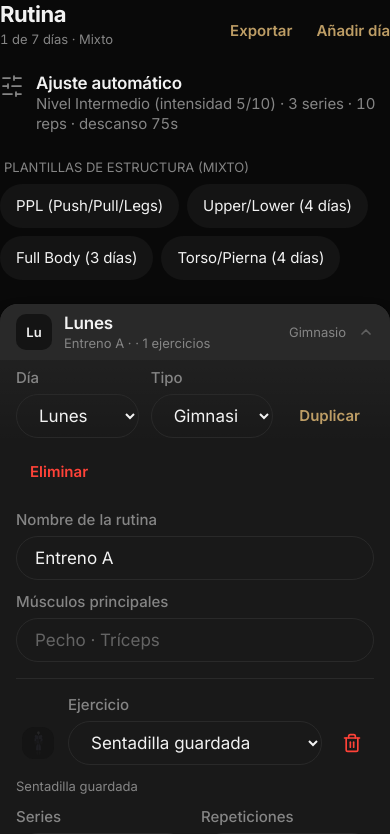
Test case: trainer routine editor › exposes collapsible days as keyboard buttons with expanded state
Click the button "Lu Lunes Entreno A · · 1 ejercicios Gimnasio" at (195, 332), box [0,304,389,360]
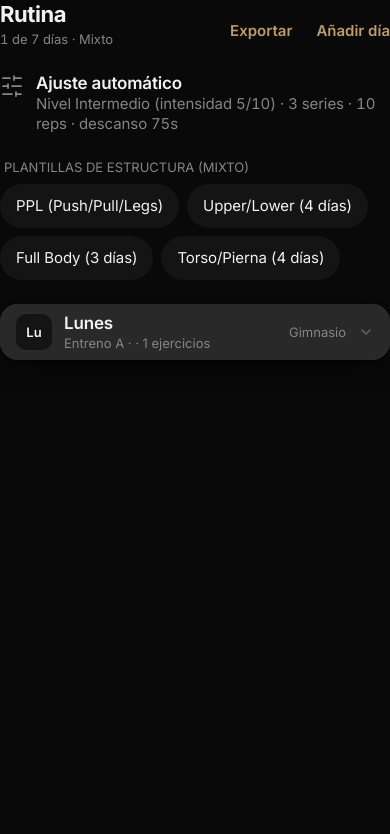
Expected: the button "Lu Lunes Entreno A · · 1 ejercicios Gimnasio" is collapsed, [0,304,389,360]
